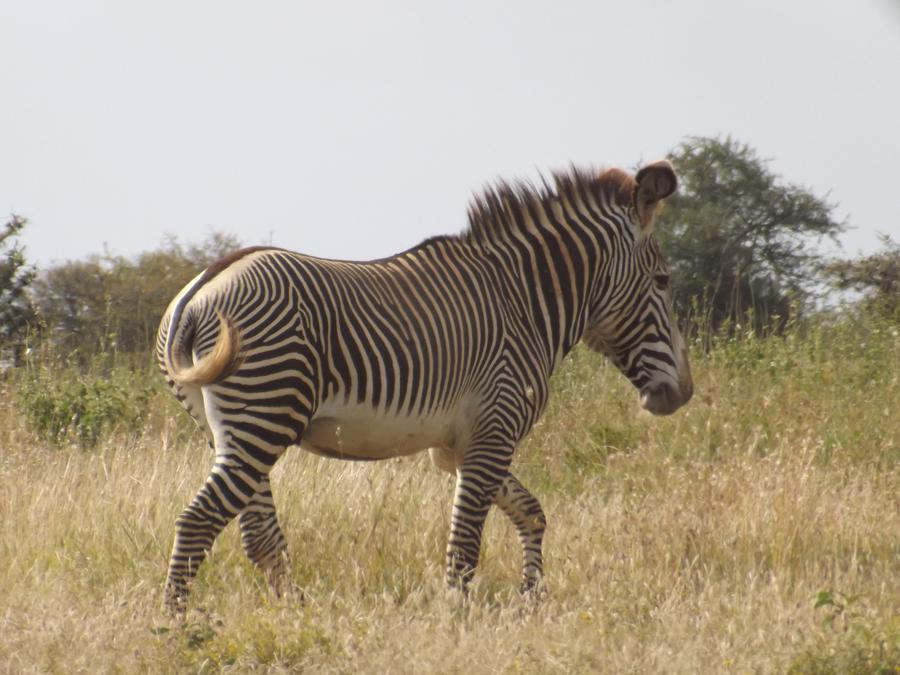zebra_grevys: (170, 227, 531, 440)
